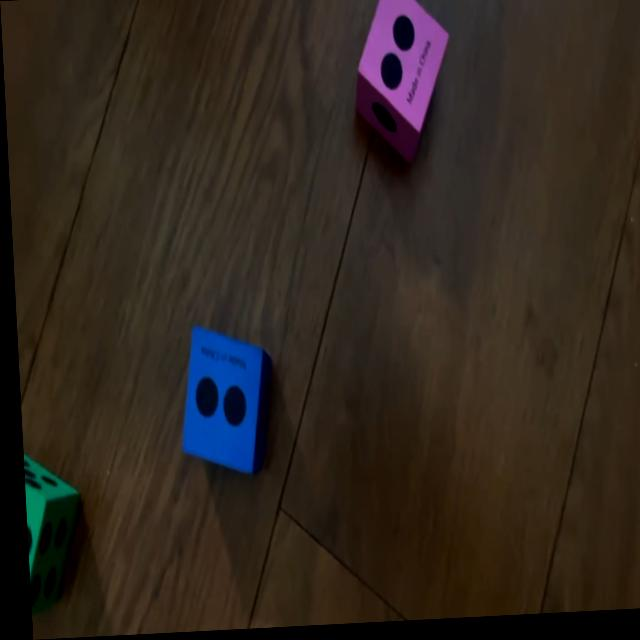blue_block: (175, 323, 273, 478)
